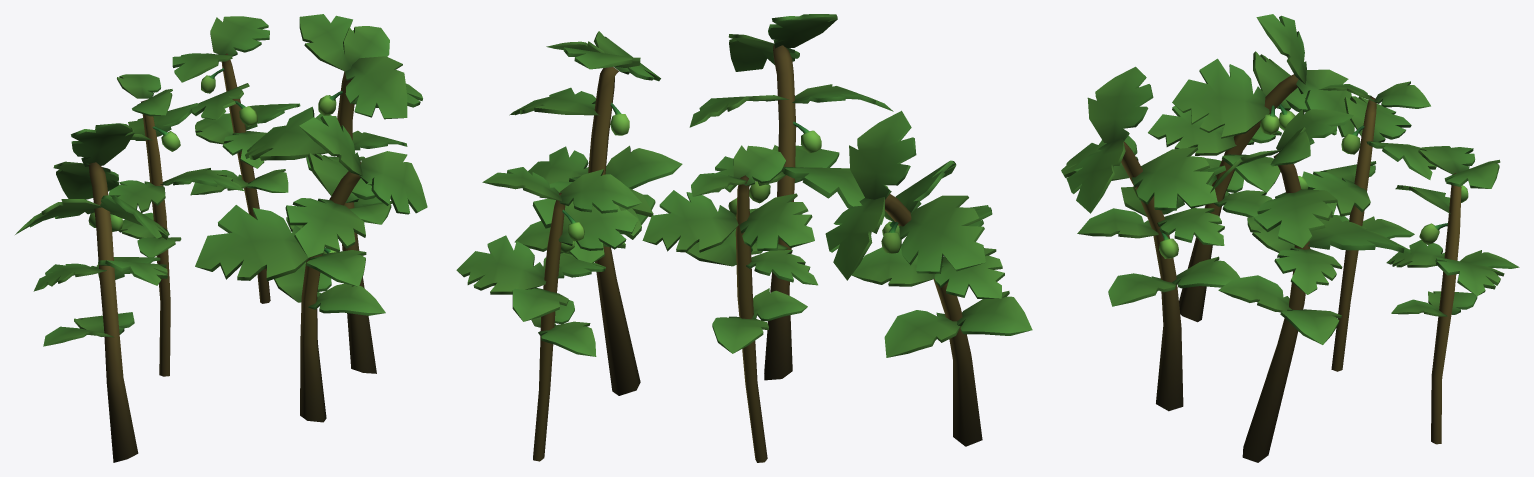
File: SM_Plant_Gooseberry_Lv2.fbx
3 renders of one model, left to right at view 1: azimuth 30°, elevation 25°; view 2: azimuth 150°, elevation 25°; view 3: azimuth 270°, elevation 25°, orthographic. The views are drawn at different scales.
Parts seen in each view (by area): view 1: SM_Plant_Gooseberry_Lv2; view 2: SM_Plant_Gooseberry_Lv2; view 3: SM_Plant_Gooseberry_Lv2.
Part boxes in pixels (<box>): SM_Plant_Gooseberry_Lv2: <box>15,14,427,462</box>; SM_Plant_Gooseberry_Lv2: <box>456,14,1032,462</box>; SM_Plant_Gooseberry_Lv2: <box>1061,14,1519,462</box>.
Bounding box in the file's own units: 47.76 × 35.58 × 44.
